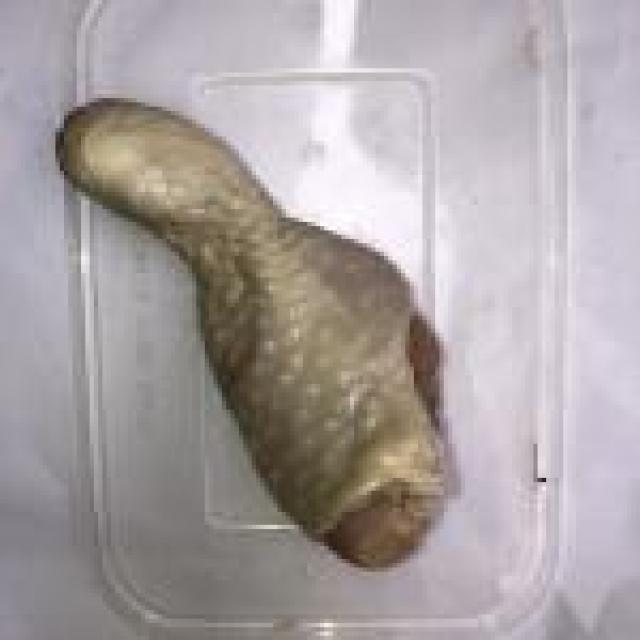leg: (48, 99, 460, 579)
